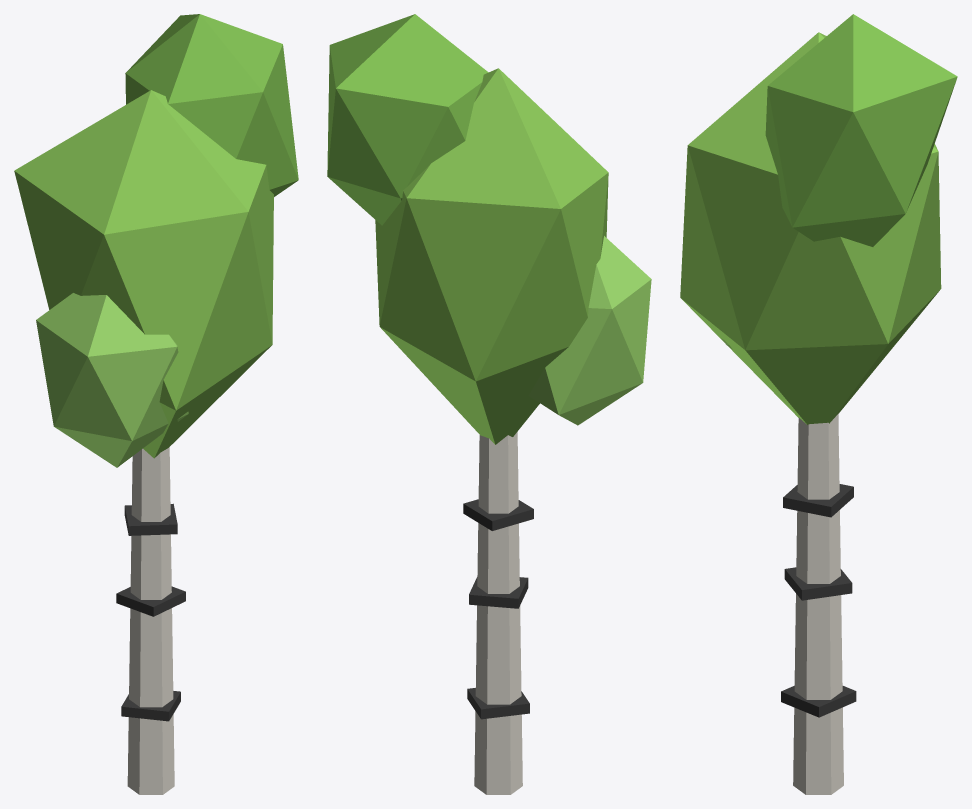
The model's file is birch_tree.glb.
The picture shows the model from 3 angles, left to right: view 1: azimuth 30°, elevation 25°; view 2: azimuth 150°, elevation 25°; view 3: azimuth 270°, elevation 25°; orthographic projection. The views are drawn at different scales.
Parts seen in each view (by area): view 1: birch_tree; view 2: birch_tree; view 3: birch_tree.
Boxes of the visible parts, x1,y1,x2,y2 form: birch_tree: (14, 14, 298, 794); birch_tree: (327, 14, 651, 794); birch_tree: (680, 14, 957, 794).
Size of the model in its own units: 2.88 by 7.69 by 2.4.
